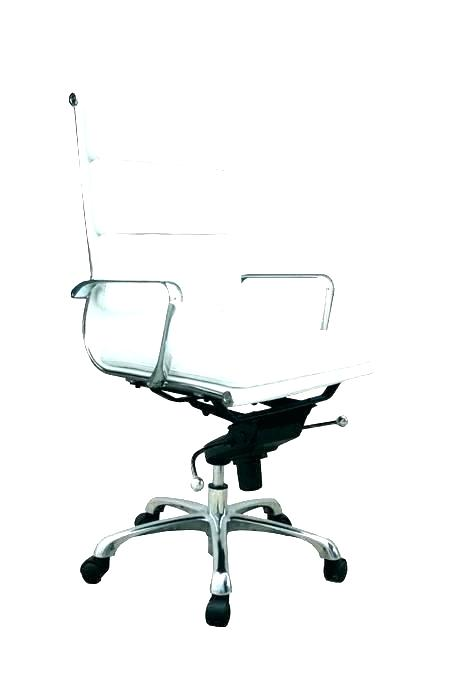chairs: (65, 85, 381, 631)
